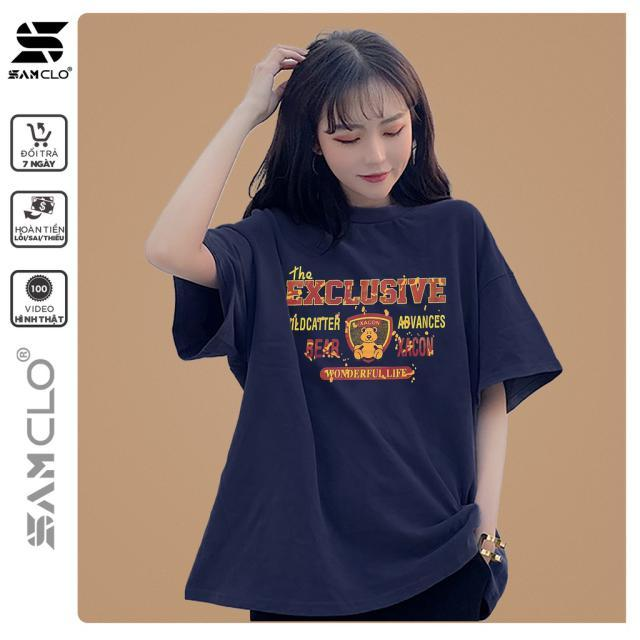Shirt: (175, 190, 564, 614)
